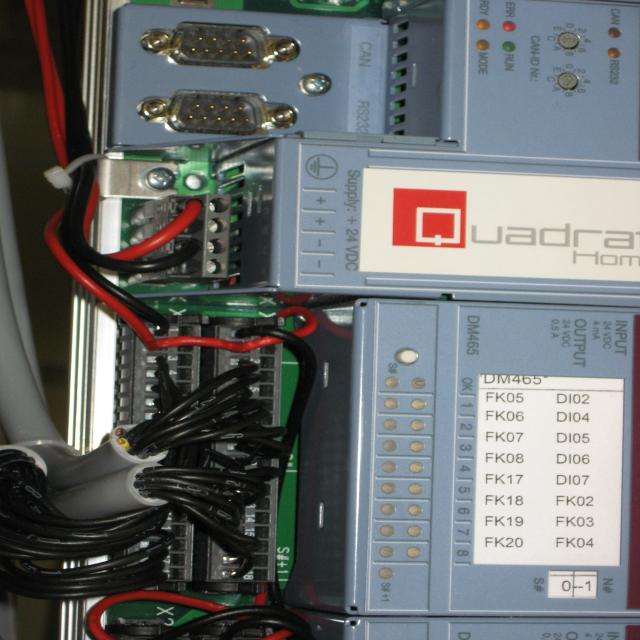SPS-System -Steuerungskomponente-: (358, 296, 634, 618)
